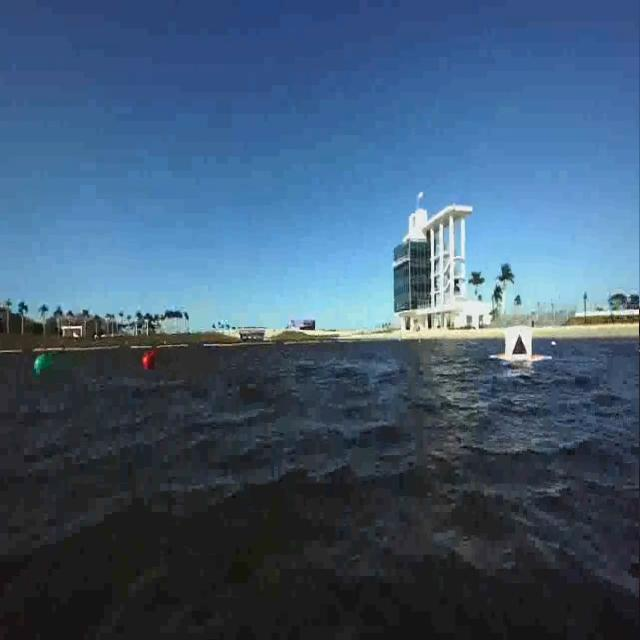green-buoy: (34, 348, 56, 378)
red-buoy: (143, 349, 159, 369)
